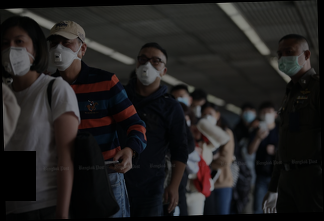with_mask: (2, 34, 32, 79), (48, 37, 76, 73), (135, 53, 162, 86), (277, 45, 303, 77), (260, 106, 278, 126), (202, 111, 219, 127), (190, 102, 206, 119), (172, 92, 190, 107), (241, 107, 257, 123)
